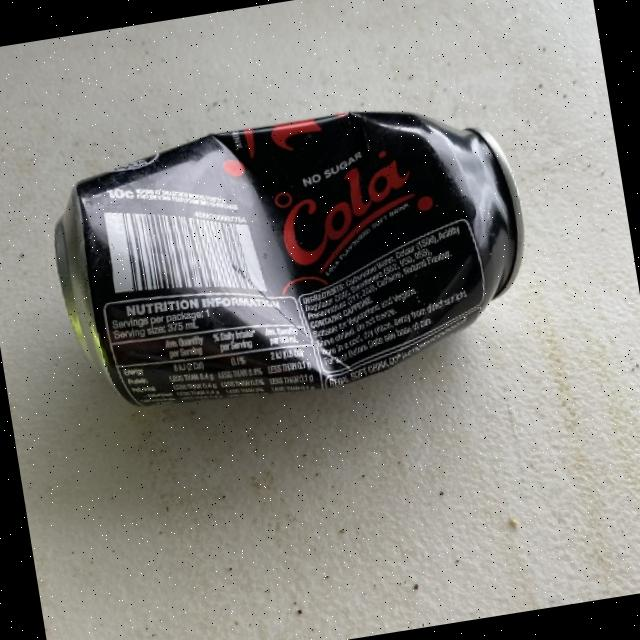metal: (38, 84, 544, 428)
